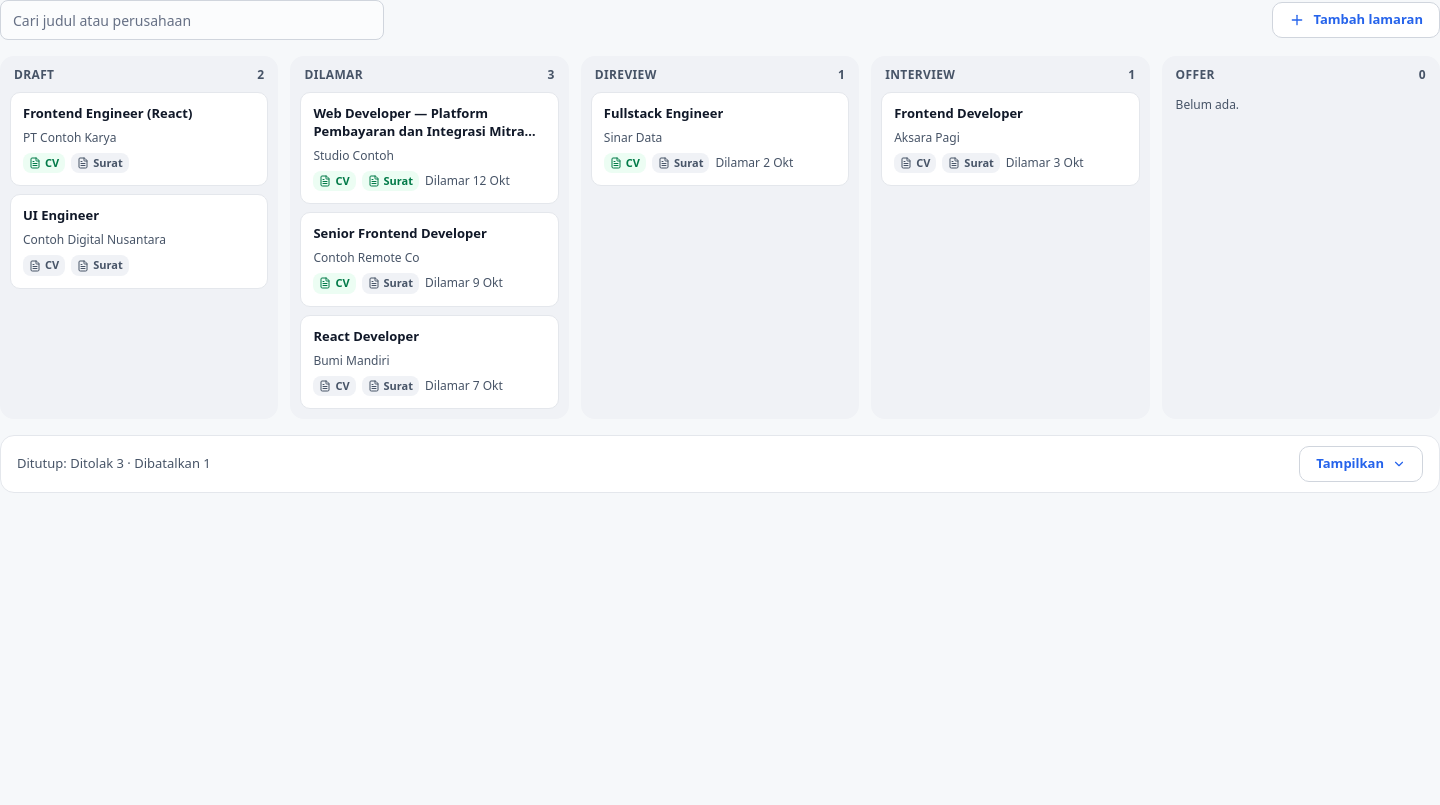
it: ApplicationsPage tambah lamaran › will not save without a job and a company, and says what is missing
Click the button "Tambah lamaran" at (1356,20), box [1272,2,1439,38]
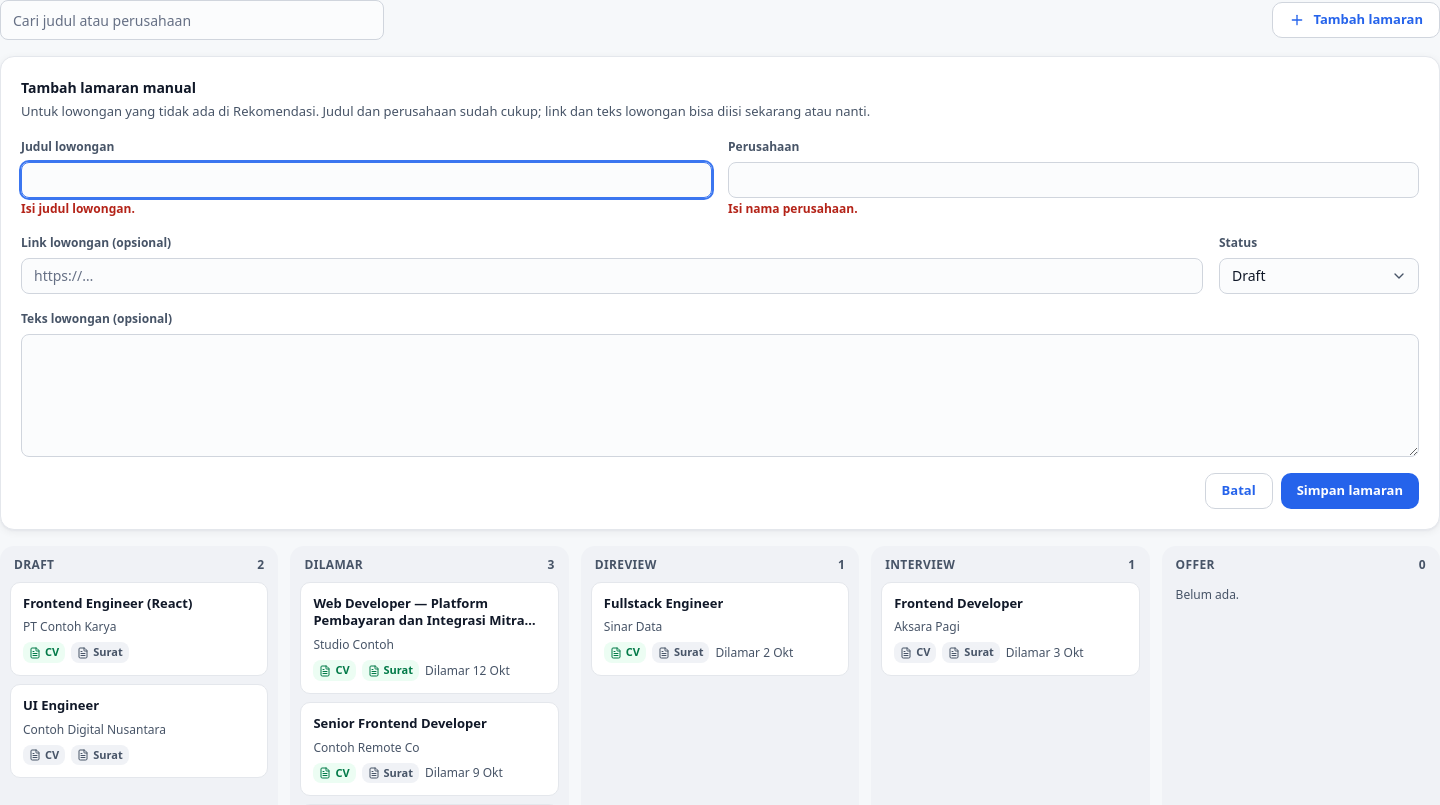
Result: the text "Isi judul lowongan." is shown at [21,200,135,216]
Result: the text "Isi nama perusahaan." is shown at [728,200,858,216]
